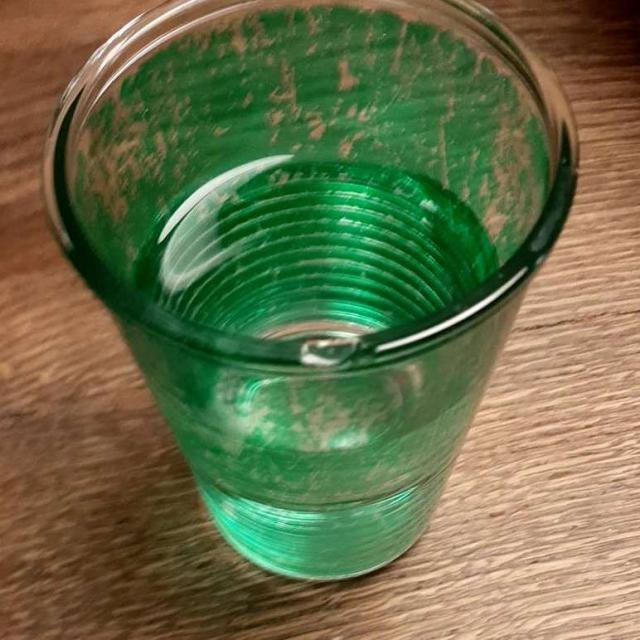water: (131, 158, 504, 346)
